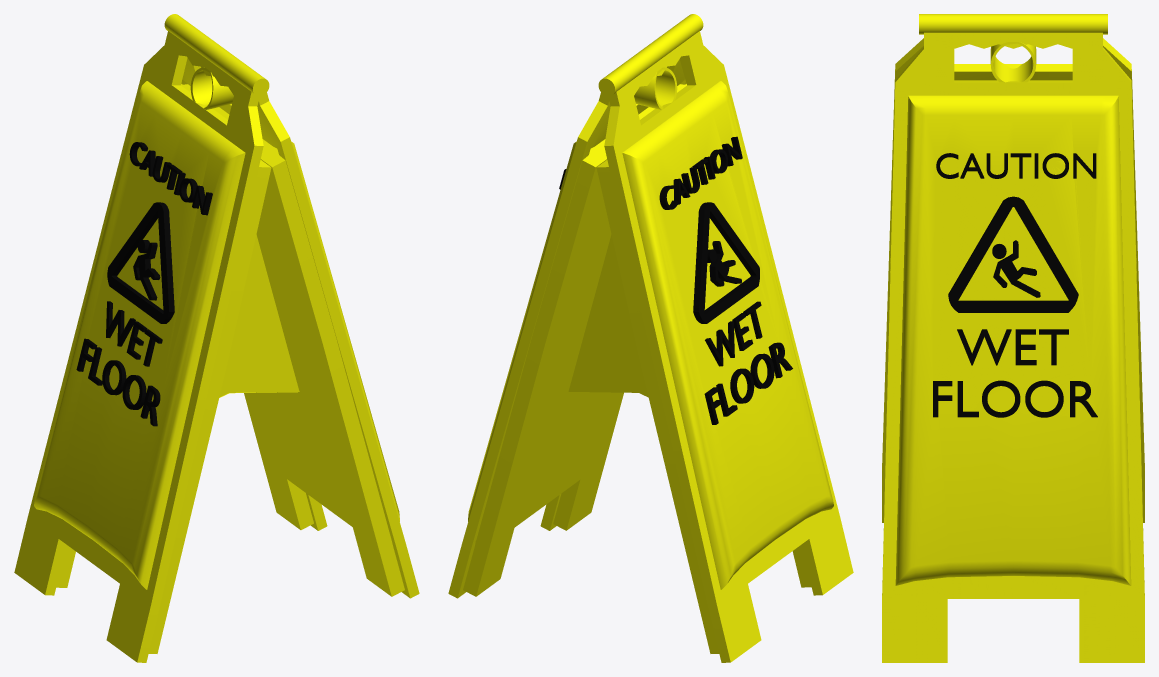
File: WetFloor.obj
The picture shows the model from 3 angles, left to right: view 1: azimuth 30°, elevation 25°; view 2: azimuth 150°, elevation 25°; view 3: azimuth 270°, elevation 25°; orthographic projection. The views are drawn at different scales.
Visible parts, largest first — view 1: .R; view 2: .R; view 3: .R.
Boxes of the visible parts, box(x1,y1,x2,y2) form: .R: box(14, 14, 419, 662); .R: box(448, 14, 853, 662); .R: box(882, 14, 1144, 662).
Size of the model in its own units: 2.66 by 4.84 by 2.
